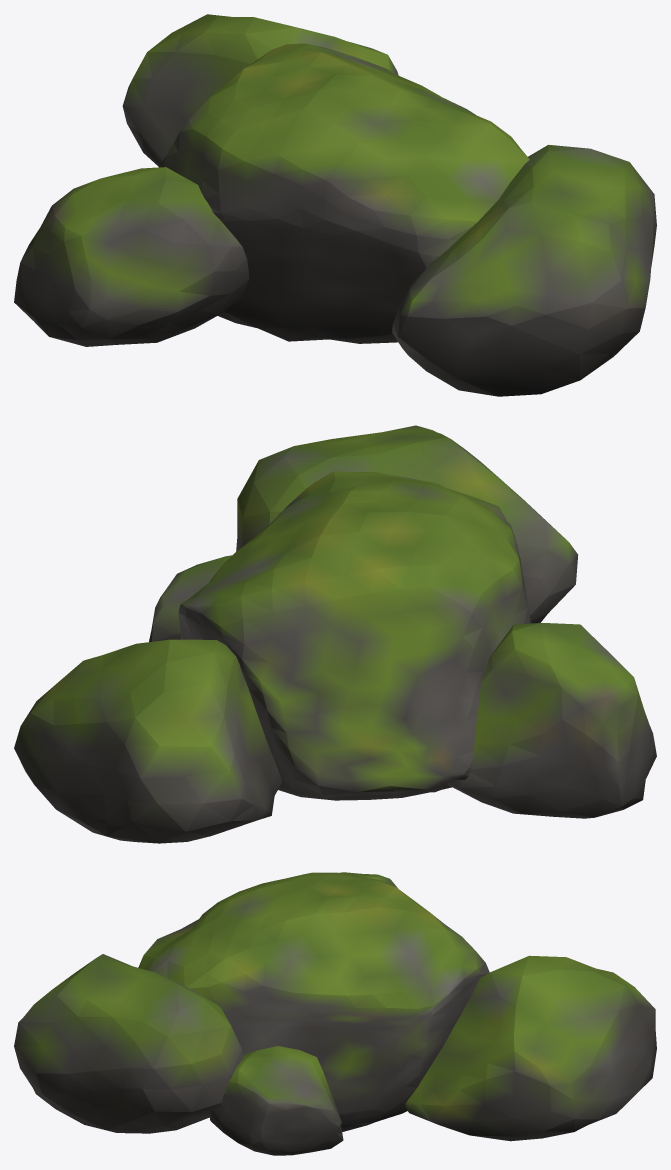
The model's file is boulder-cluster-mossy-a.lod0.glb.
3 views of the same model, one above another, from view 1: azimuth 30°, elevation 25°; view 2: azimuth 150°, elevation 25°; view 3: azimuth 270°, elevation 25° (orthographic). The views are drawn at different scales.
Bounding box in the file's own units: 4.12 × 1.77 × 5.38.
